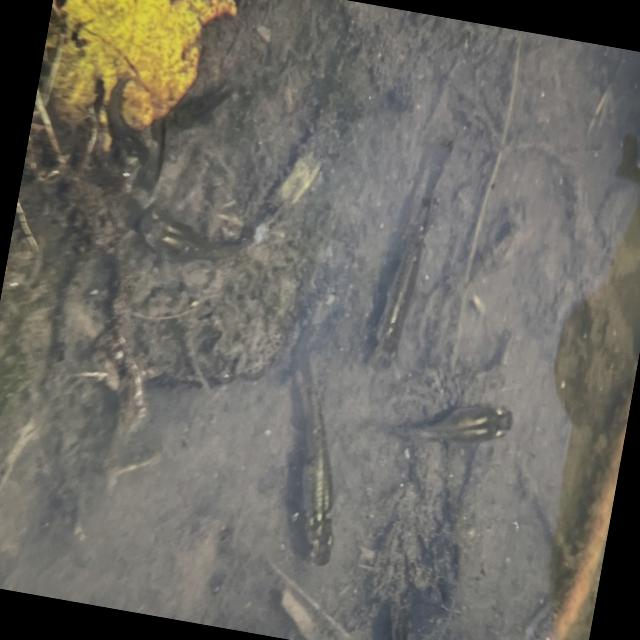Sivrisinek Baligi: (358, 124, 462, 394), (252, 341, 368, 568), (392, 377, 522, 465), (373, 589, 440, 640)
